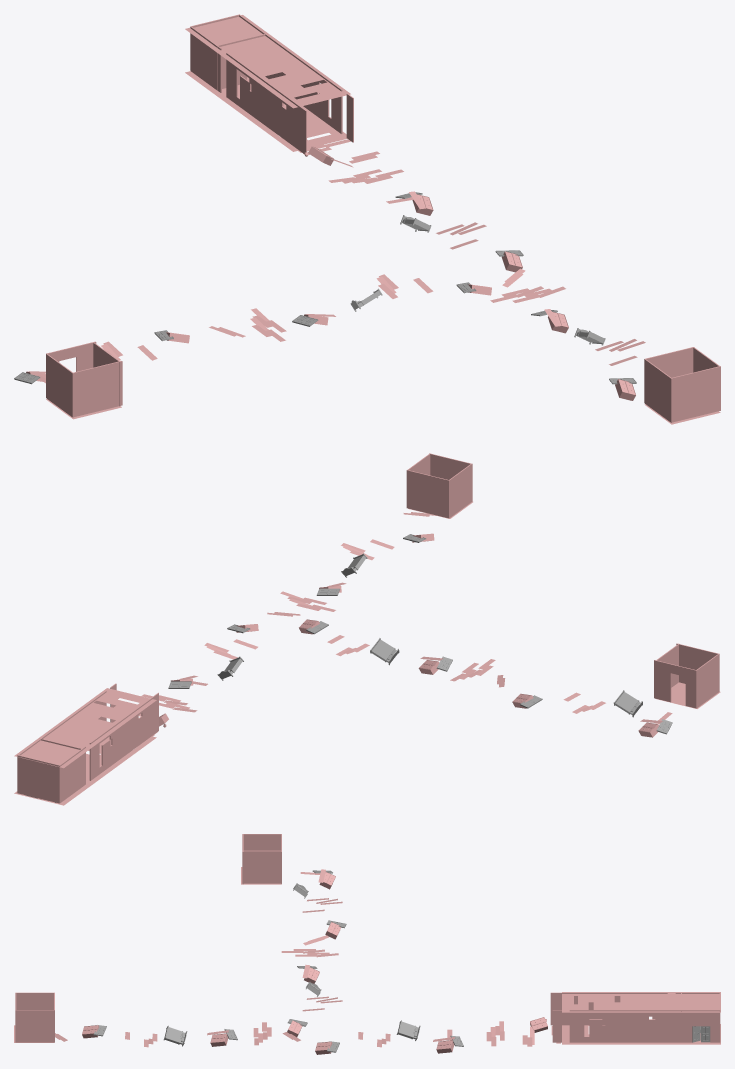
The model's file is mapmapmaptestnumberfiveroony.fbx.
3 views of the same model, one above another, from view 1: azimuth 30°, elevation 25°; view 2: azimuth 150°, elevation 25°; view 3: azimuth 270°, elevation 25° (orthographic). The views are drawn at different scales.
Parts seen in each view (by area): view 1: pPlane32, pCube19, pPlane71, pCube13, pCube9, pCube14, pPlane2, pCube7, pCube10, pCube2, pCube6, pCube11; view 2: pPlane32, pPlane71, pCube19, pCube6, pCube3, pCube11, pCube7, pCube10, pPlane2, pCube2, pCube13, pCube9; view 3: pCube14, pPlane32, pPlane71, pCube12, pCube8, pCube4, pCube19, pPlane2, pCube7, pCube10.
Part boxes in pixels (x1=…): pPlane32: x1=185, y1=15, x2=350, y2=108; pCube19: x1=217, y1=46, x2=306, y2=153; pPlane71: x1=14, y1=274, x2=491, y2=384; pCube13: x1=73, y1=361, x2=122, y2=416; pCube9: x1=671, y1=366, x2=720, y2=422; pCube14: x1=265, y1=34, x2=353, y2=142; pPlane2: x1=185, y1=71, x2=347, y2=151; pCube7: x1=644, y1=359, x2=672, y2=422; pCube10: x1=46, y1=354, x2=73, y2=417; pCube2: x1=190, y1=26, x2=217, y2=89; pCube6: x1=644, y1=347, x2=694, y2=402; pCube11: x1=46, y1=341, x2=96, y2=397; pPlane32: x1=14, y1=688, x2=156, y2=768; pPlane71: x1=299, y1=619, x2=672, y2=737; pCube19: x1=82, y1=692, x2=158, y2=786; pCube6: x1=406, y1=470, x2=449, y2=518; pCube3: x1=17, y1=755, x2=60, y2=803; pCube11: x1=654, y1=660, x2=696, y2=708; pCube7: x1=449, y1=463, x2=472, y2=517; pCube10: x1=696, y1=654, x2=719, y2=707; pPlane2: x1=14, y1=736, x2=156, y2=805; pCube2: x1=60, y1=748, x2=82, y2=802; pCube13: x1=676, y1=643, x2=718, y2=683; pCube9: x1=429, y1=453, x2=470, y2=479; pCube14: x1=552, y1=1010, x2=682, y2=1042; pPlane32: x1=562, y1=992, x2=720, y2=1012; pPlane71: x1=281, y1=869, x2=346, y2=1037; pCube12: x1=242, y1=850, x2=281, y2=883; pCube8: x1=15, y1=1010, x2=53, y2=1042; pCube4: x1=680, y1=1010, x2=719, y2=1042; pCube19: x1=550, y1=992, x2=684, y2=1025; pPlane2: x1=562, y1=1024, x2=720, y2=1044; pCube7: x1=15, y1=992, x2=53, y2=1009; pCube10: x1=242, y1=834, x2=281, y2=850.
Size of the model in its own units: 438 by 49.19 by 715.
